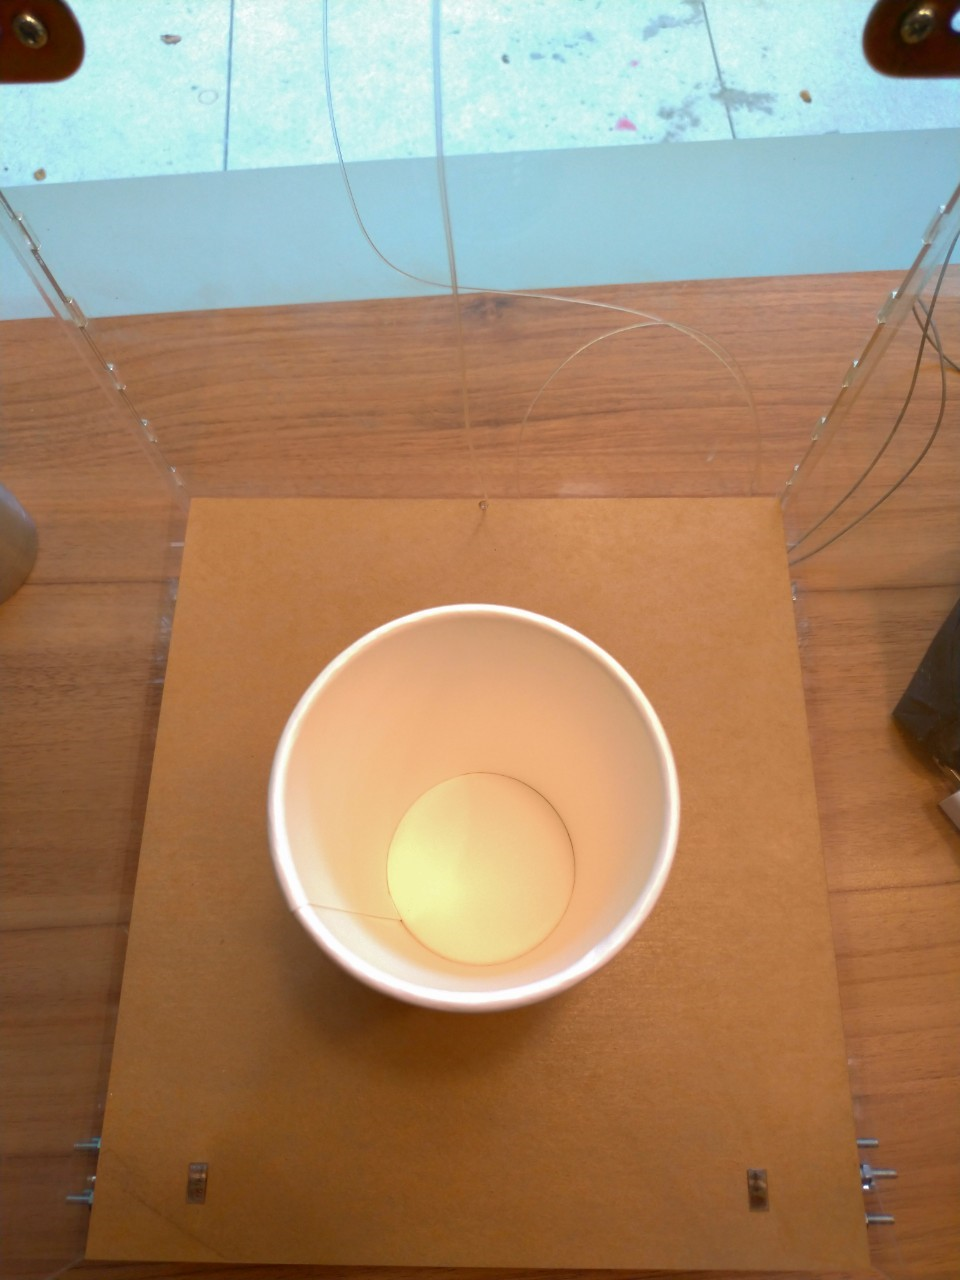PaperCup: (267, 600, 684, 1015)
